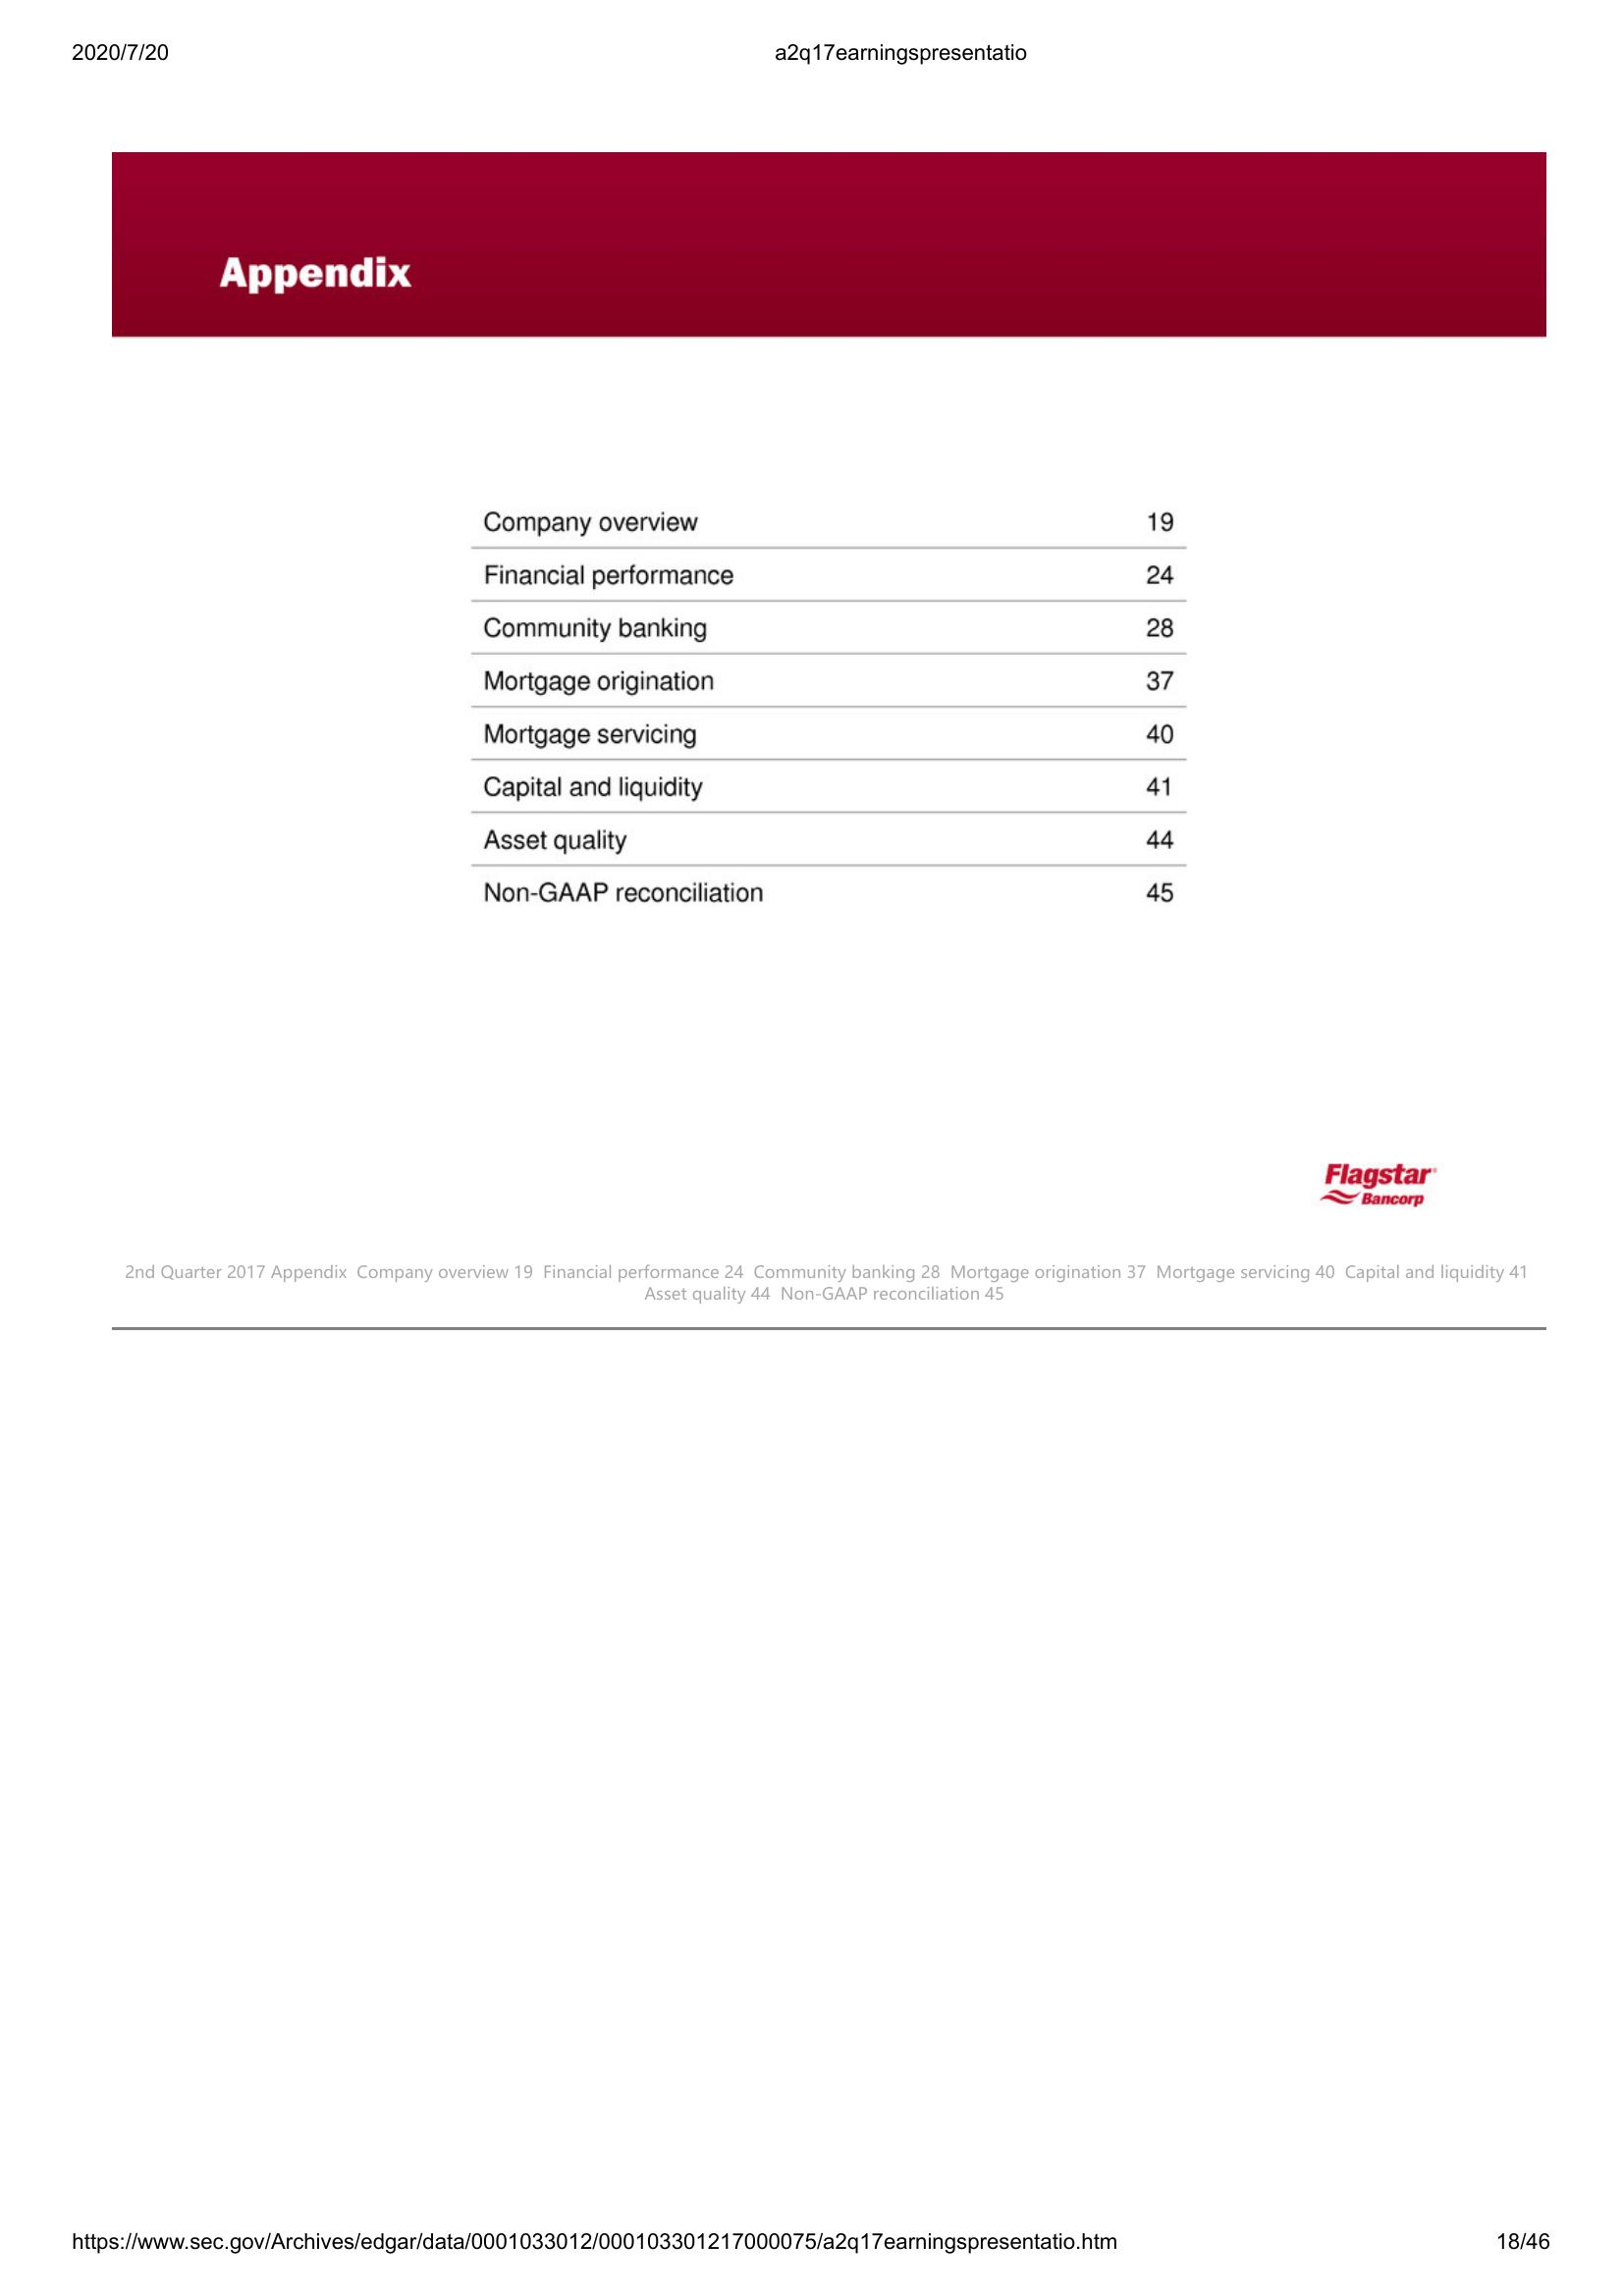table: (471, 500, 1191, 918)
